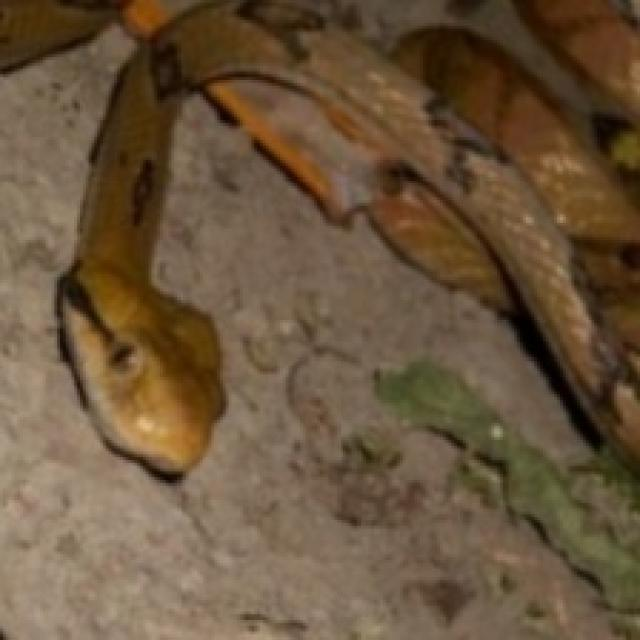dog-toothed cat snake: (57, 0, 637, 474)
